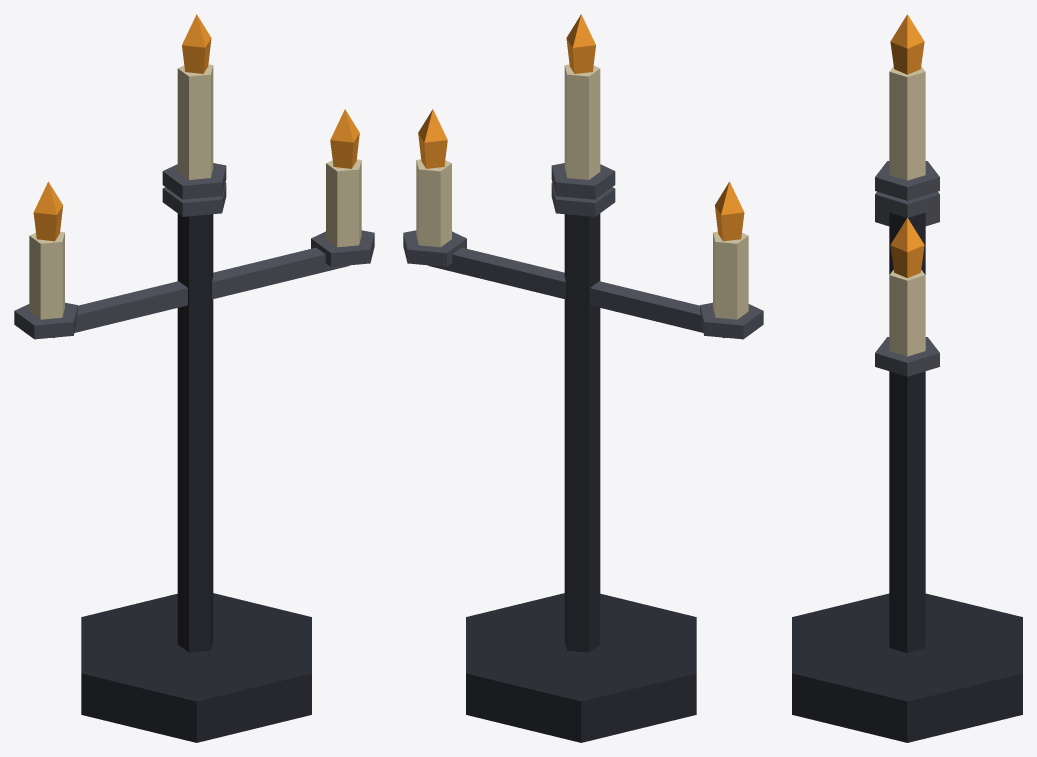
File: candelabra_floor.fbx
The picture shows the model from 3 angles, left to right: view 1: azimuth 30°, elevation 25°; view 2: azimuth 150°, elevation 25°; view 3: azimuth 270°, elevation 25°; orthographic projection.
Parts seen in each view (by area): view 1: candelabra_floor; view 2: candelabra_floor; view 3: candelabra_floor.
Part boxes in pixels (x1,y1,x2,y2): candelabra_floor: (14, 14, 374, 742); candelabra_floor: (403, 14, 763, 742); candelabra_floor: (792, 14, 1022, 742).
Size of the model in its own units: 1.06 by 1.95 by 0.6062.
